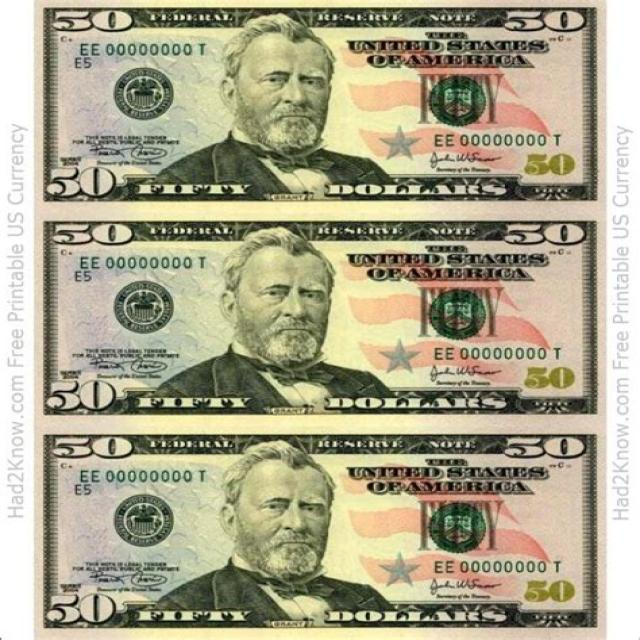Fifty: (34, 208, 609, 426), (33, 422, 608, 639), (31, 0, 608, 209)
